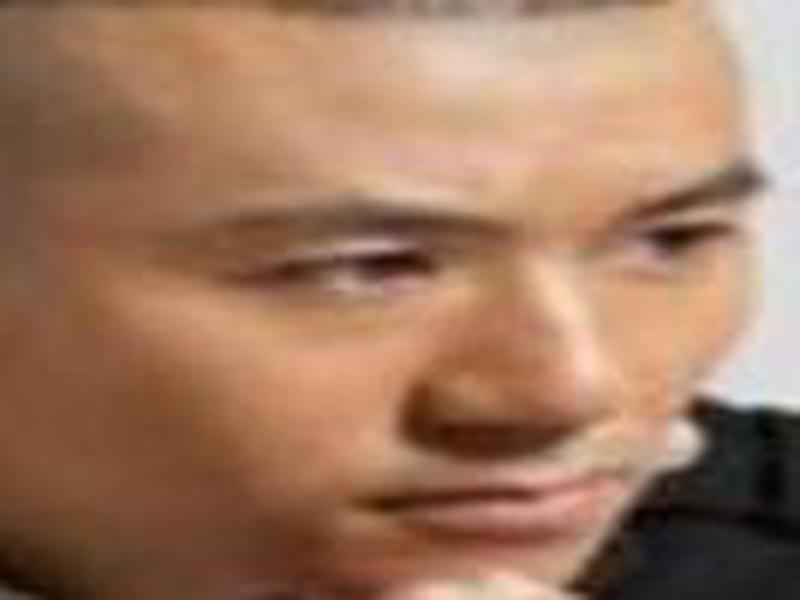without_mask: (23, 8, 772, 600)
